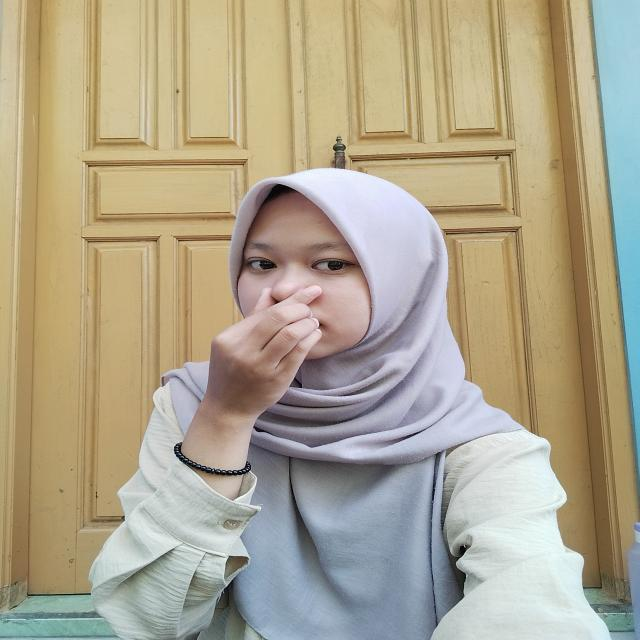bau: (179, 268, 327, 414)
